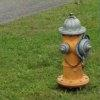a fire hydrant: (59, 17, 91, 87)
